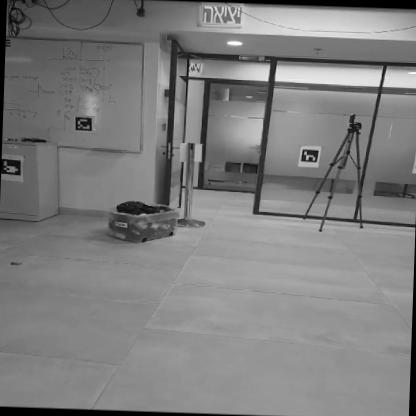open: (170, 75, 278, 221)
